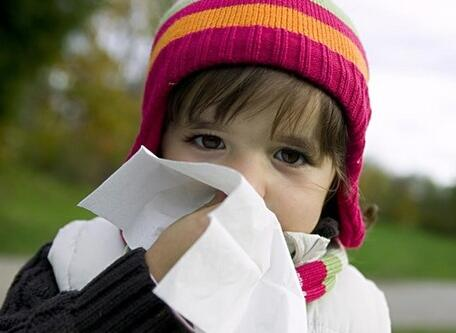face: (162, 80, 330, 287)
